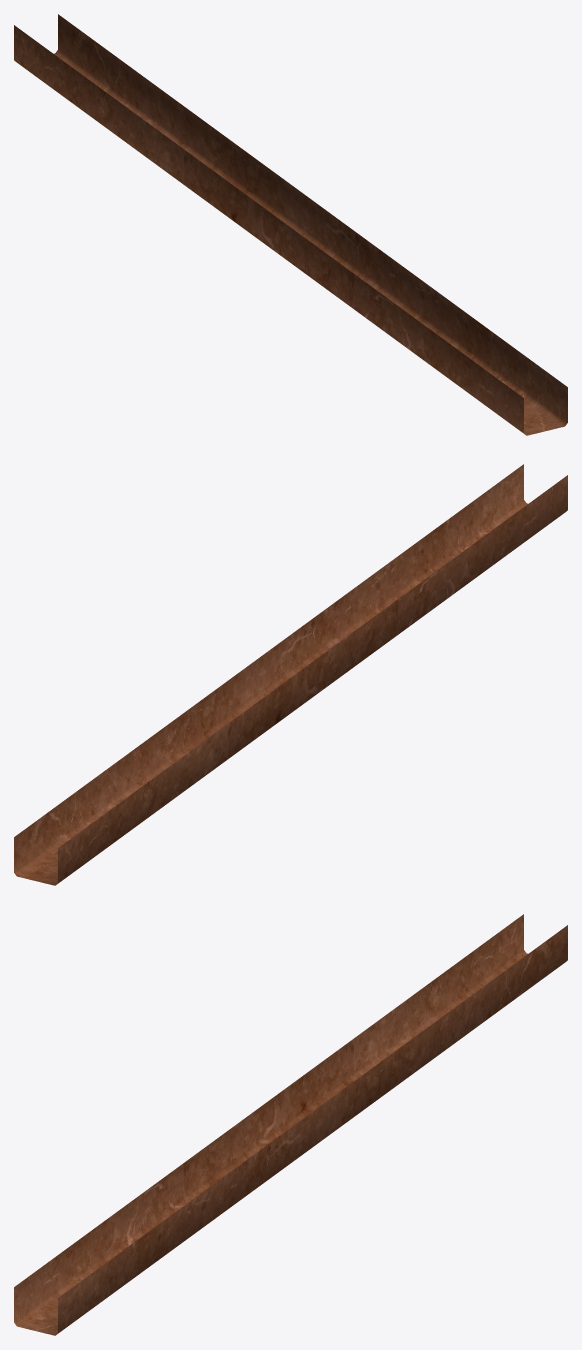
File: ceiling_stones_03.glb
3 views of the same model, one above another, from view 1: azimuth 30°, elevation 25°; view 2: azimuth 150°, elevation 25°; view 3: azimuth 330°, elevation 25° (orthographic).
Parts seen in each view (by area): view 1: ceiling_stones_03; view 2: ceiling_stones_03; view 3: ceiling_stones_03.
Boxes of the visible parts, x1,y1,x2,y2 form: ceiling_stones_03: (14,14,567,435); ceiling_stones_03: (14,464,567,885); ceiling_stones_03: (14,914,567,1335).
Size of the model in its own units: 0.3 by 0.25 by 6.
1 material, 1 textured.
